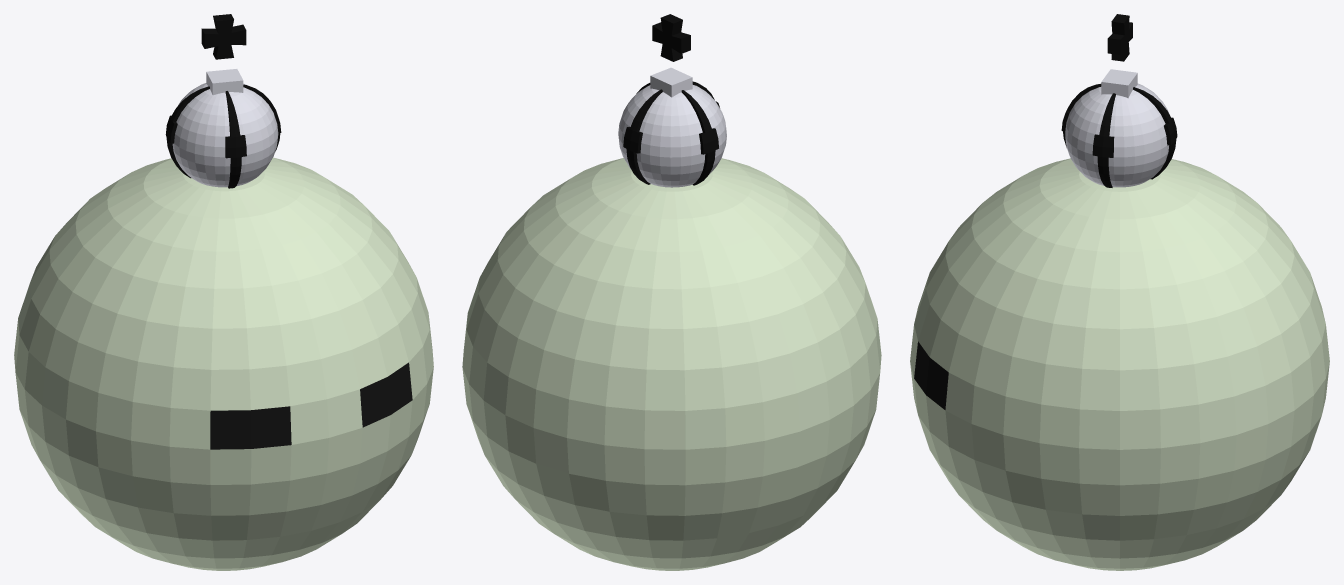
File: MONSTER-02.fbx
3 renders of one model, left to right at view 1: azimuth 30°, elevation 25°; view 2: azimuth 150°, elevation 25°; view 3: azimuth 270°, elevation 25°, orthographic.
Parts seen in each view (by area): view 1: Sphere, Cube; view 2: Sphere, Cube; view 3: Sphere, Cube.
Boxes of the visible parts, x1,y1,x2,y2 form: Sphere: (14,157,433,570); Cube: (165,14,281,188); Sphere: (462,158,881,570); Cube: (618,14,726,187); Sphere: (910,158,1329,570); Cube: (1061,14,1177,187).
Size of the model in its own units: 305 by 427 by 305.
